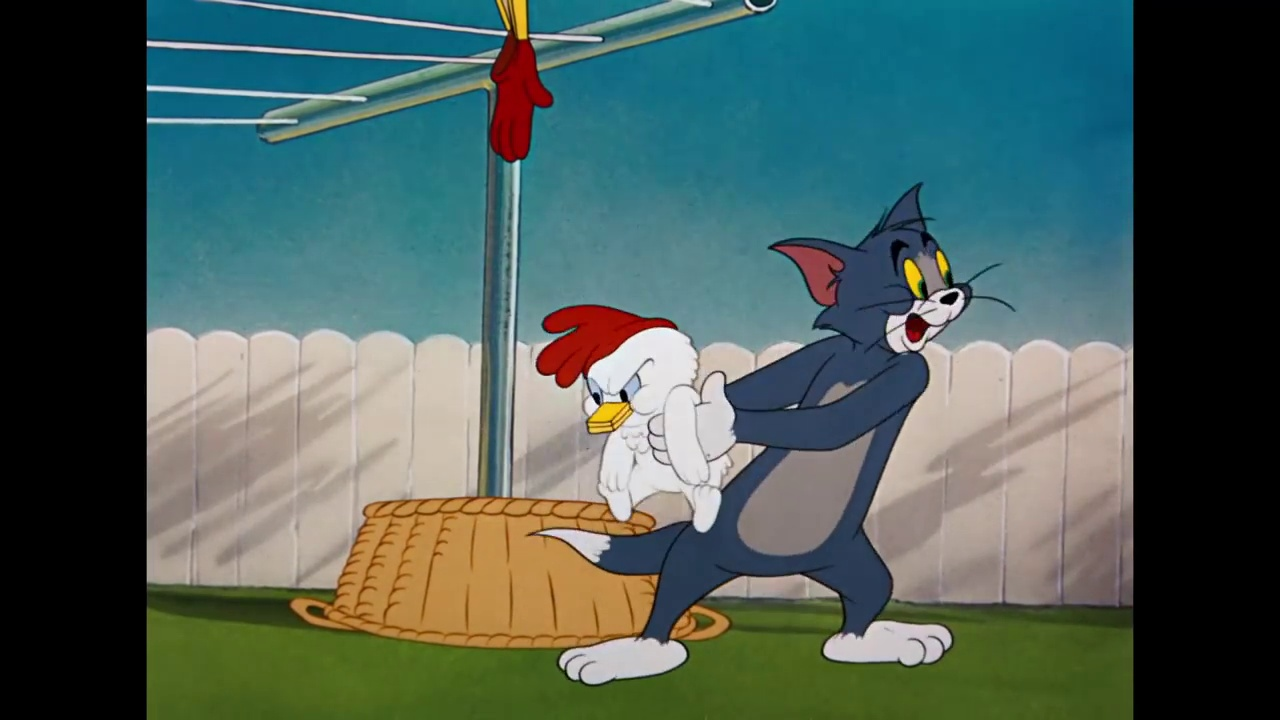tom: (768, 177, 992, 364)
